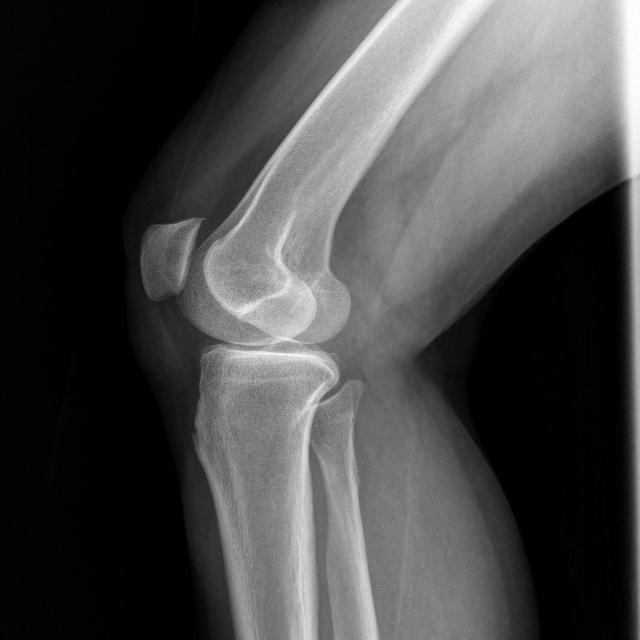Knee: (136, 211, 352, 422)
